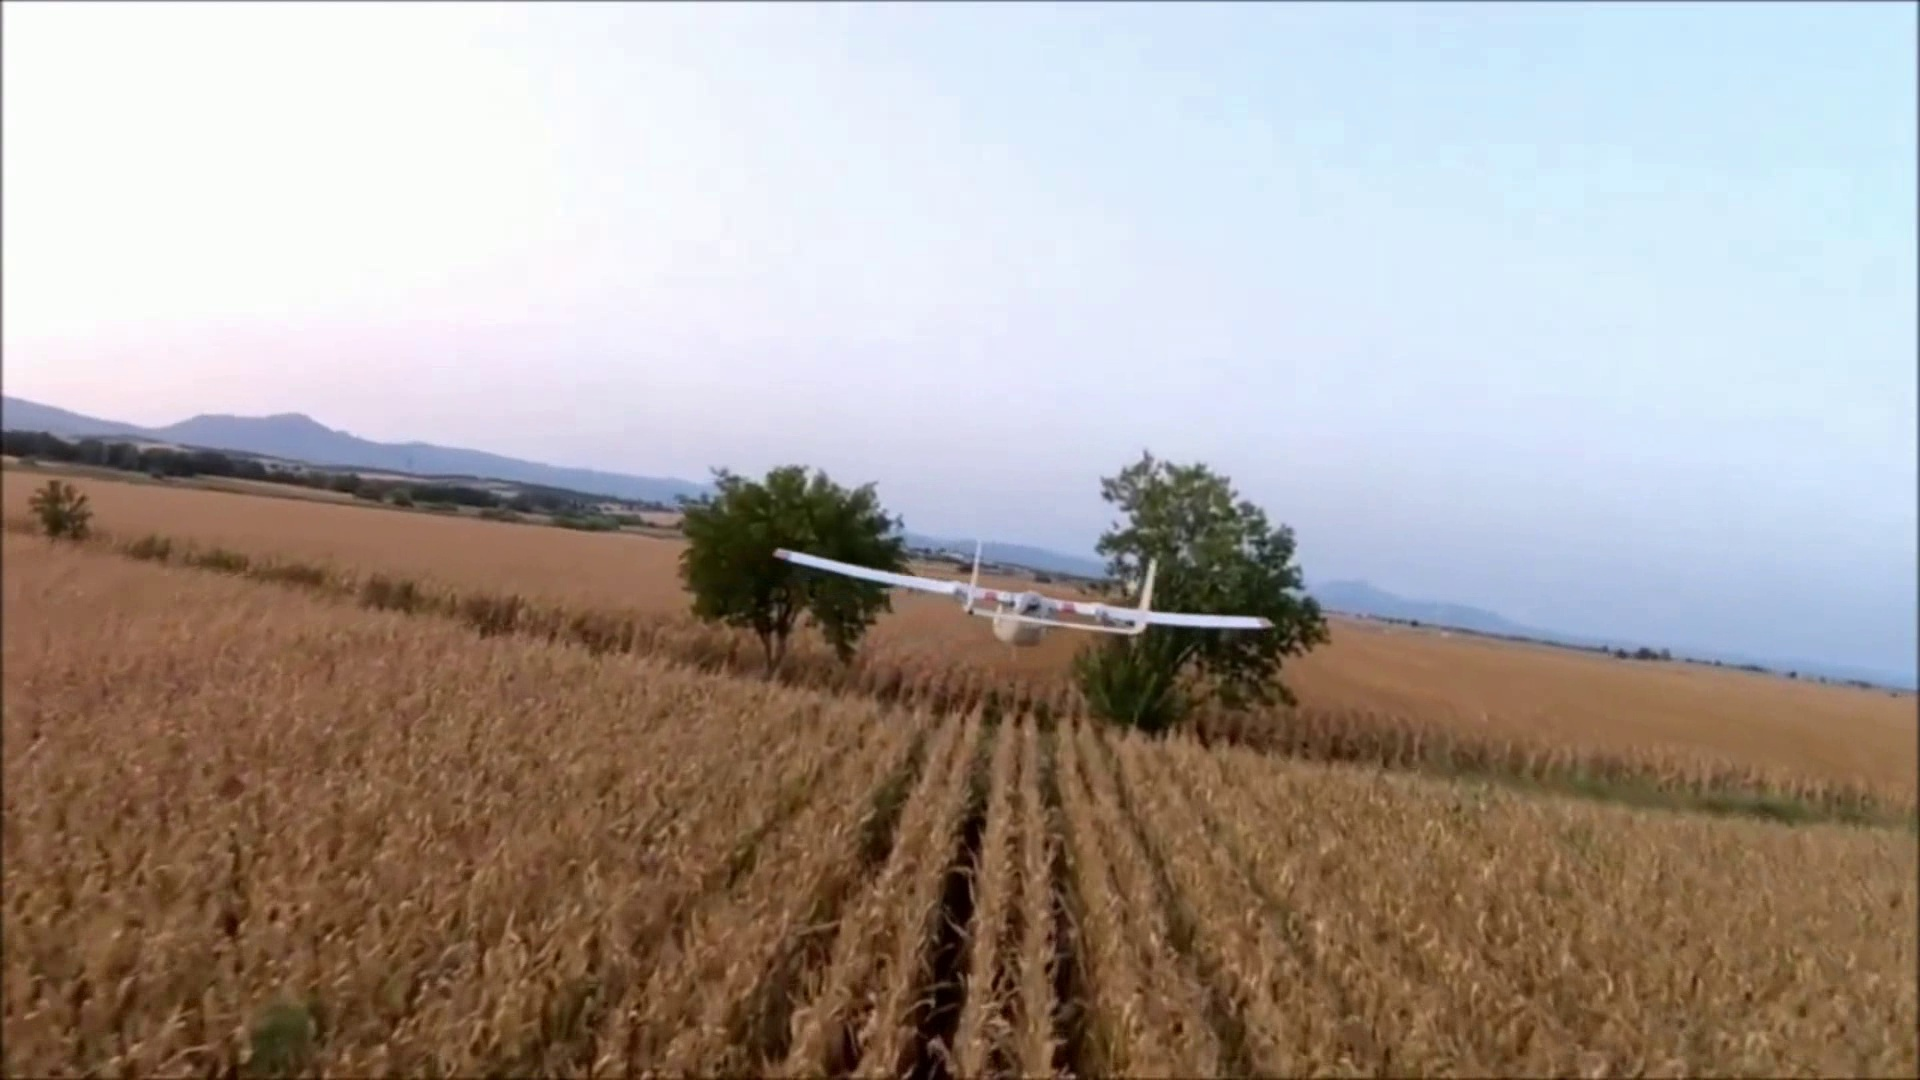airplane: (770, 545, 1270, 646)
